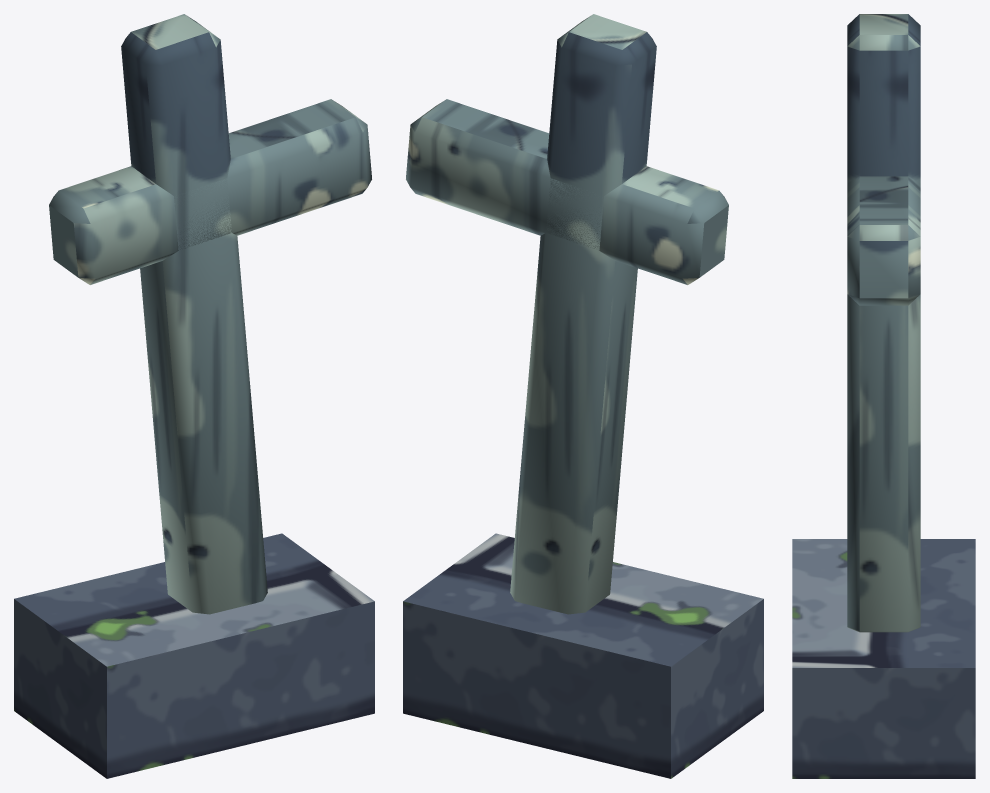
The model's file is tombstone_small_b.glb.
3 views of the same model, side by side, from view 1: azimuth 30°, elevation 25°; view 2: azimuth 150°, elevation 25°; view 3: azimuth 270°, elevation 25° (orthographic).
Parts seen in each view (by area): view 1: Prop; view 2: Prop; view 3: Prop.
Boxes of the visible parts, bbox=[...] form: Prop: bbox=[14, 14, 374, 778]; Prop: bbox=[403, 14, 763, 778]; Prop: bbox=[792, 14, 975, 778].
Bounding box in the file's own units: 0.5583 × 1.23 × 0.3.
2 materials, 2 textured.
